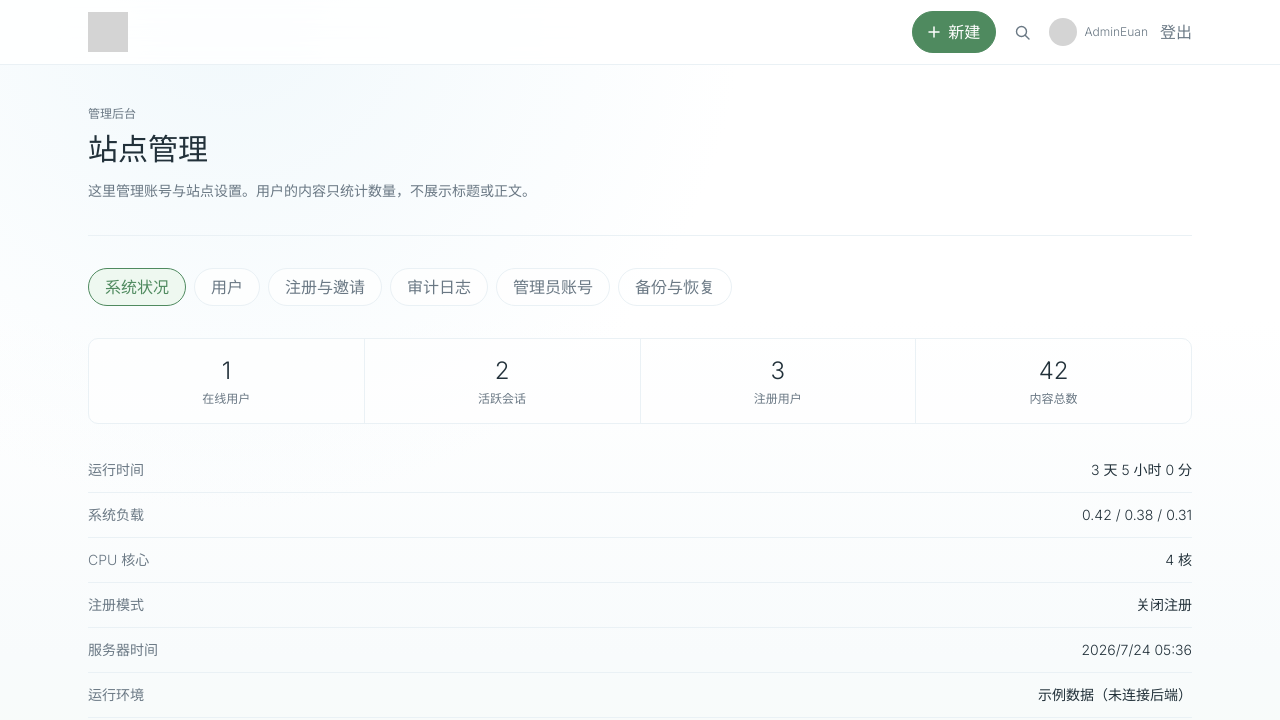
Test case: admin console › shows counts on the detail view, never content
Step 1. Click the button "用户" → (227, 287), box [194,268,260,306]
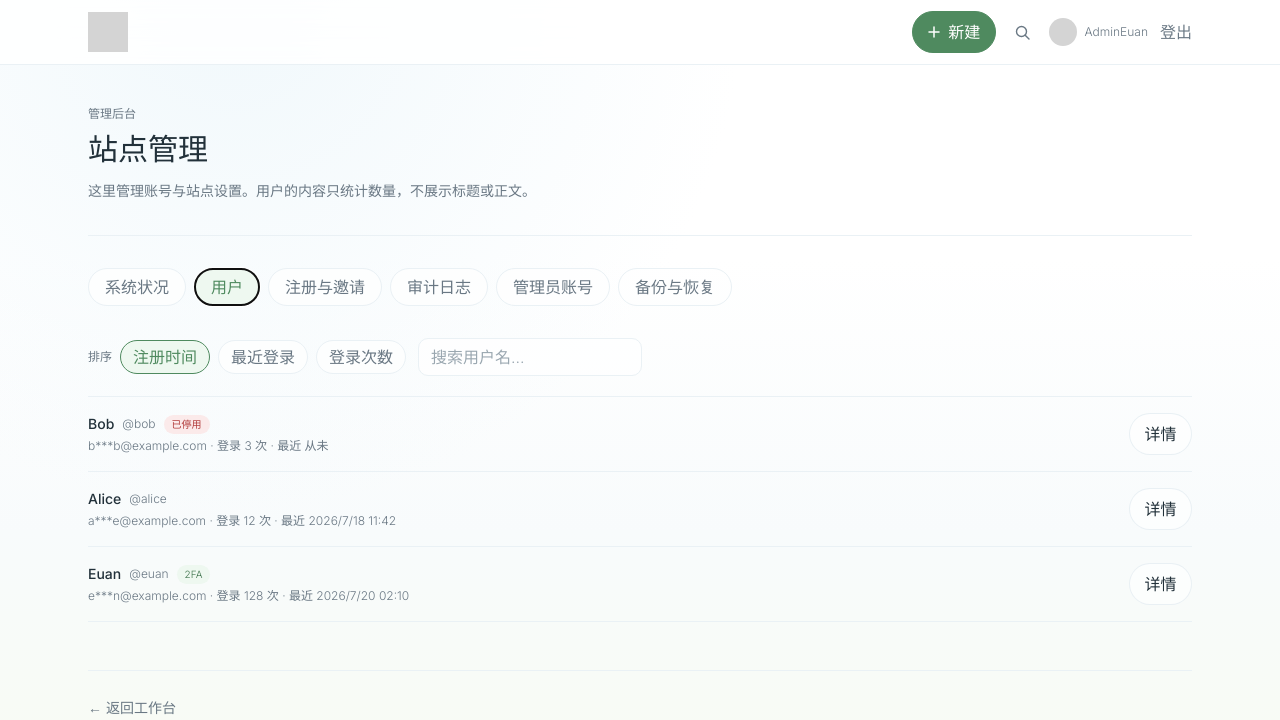
expect the button "详情" in the row of "从未" is shown: met
Step 2. Click the button "详情" in the row of "从未" → (1161, 434), box [1129,413,1192,455]
(page scrolled)
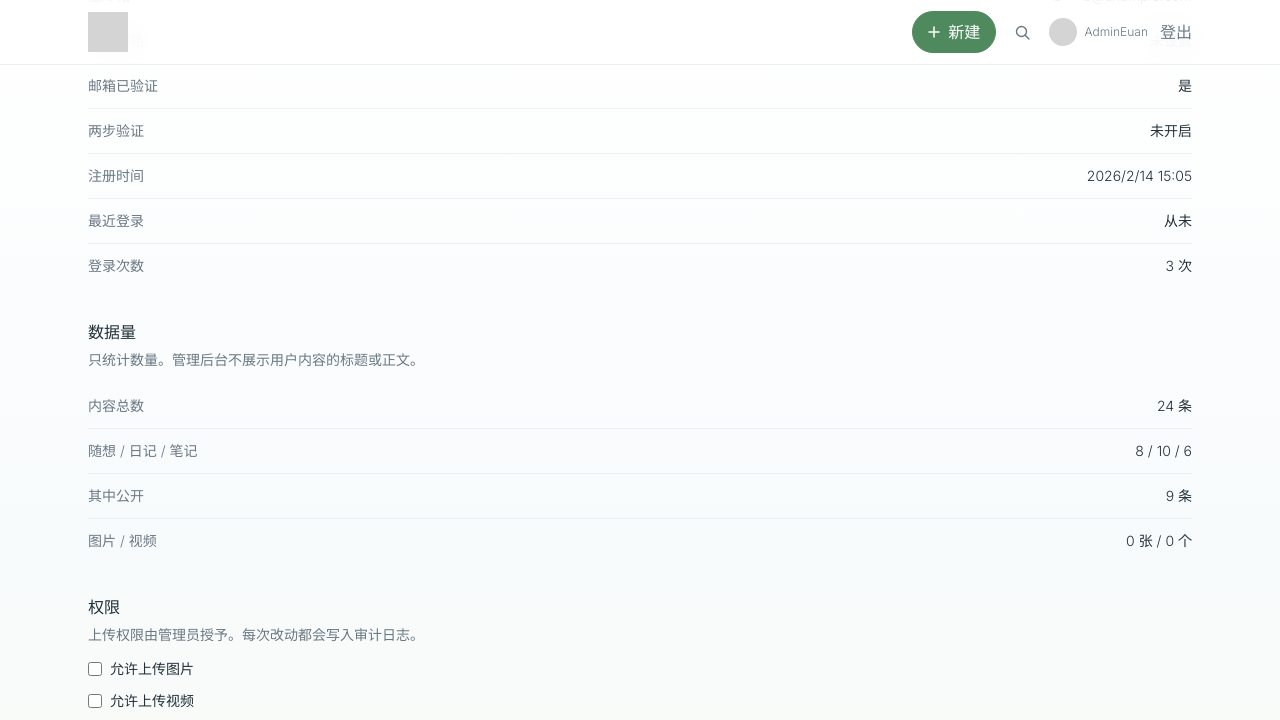
expect the heading "数据量" is shown: met, box [88,322,136,342]
expect the text "内容总数" is shown: met, box [88,396,144,416]
expect the text "只统计数量。管理后台不展示用户内容的标题或正文。" is shown: met, box [88,351,424,368]
